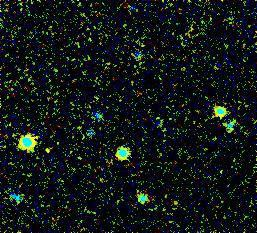star: (34, 134, 64, 164)
